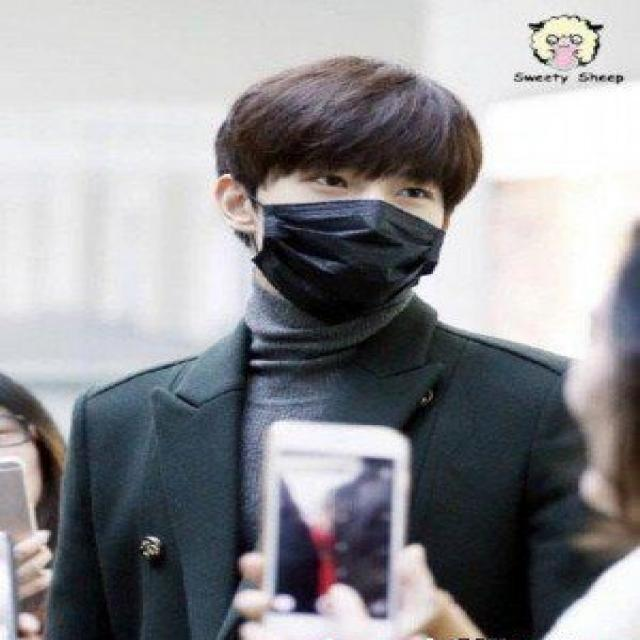mask: (261, 160, 443, 313)
